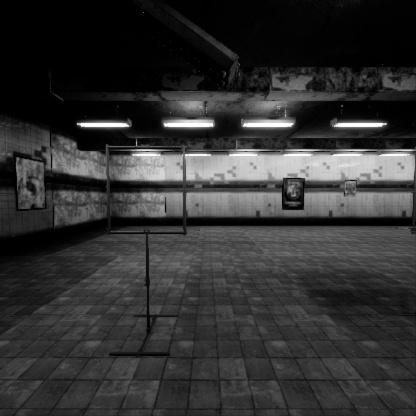gate: (106, 180, 193, 271)
